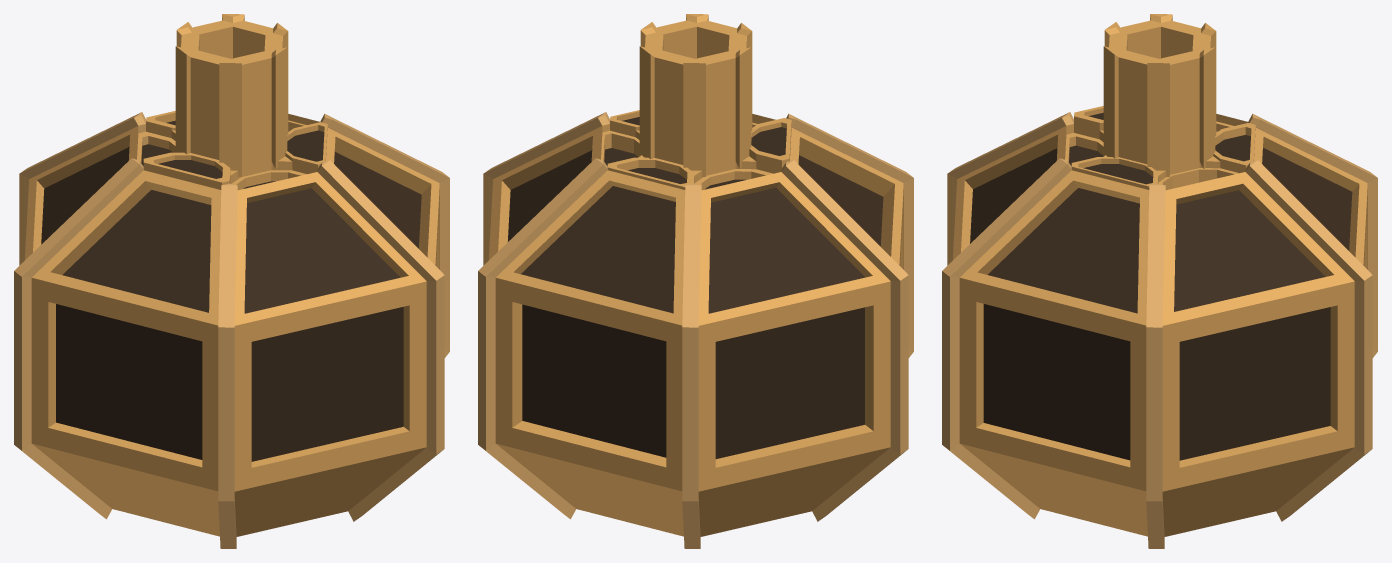
The model's file is DomDedaShera.fbx.
The picture shows the model from 3 angles, left to right: view 1: azimuth 30°, elevation 25°; view 2: azimuth 150°, elevation 25°; view 3: azimuth 270°, elevation 25°; orthographic projection.
Parts seen in each view (by area): view 1: Plane; view 2: Plane; view 3: Plane.
Boxes of the visible parts, bbox=[...] form: Plane: bbox=[14, 14, 449, 548]; Plane: bbox=[478, 14, 913, 548]; Plane: bbox=[942, 14, 1377, 548].
Size of the model in its own units: 430 by 435 by 384.
